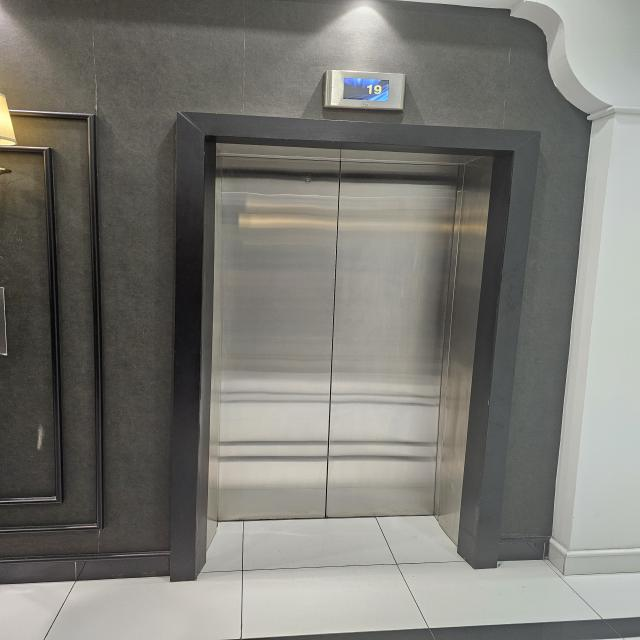elevator: (162, 120, 550, 591)
